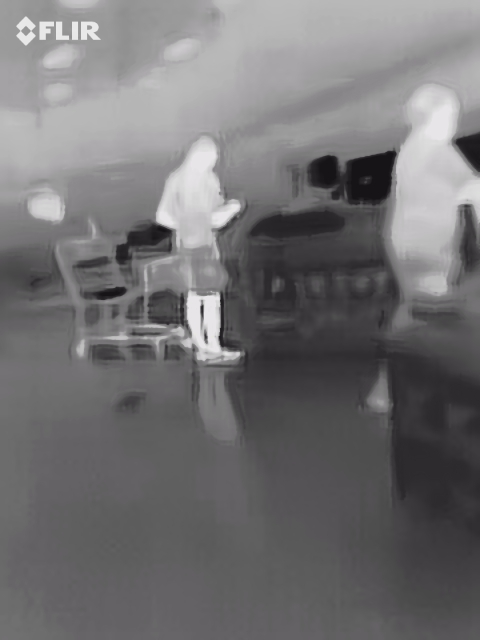head: (404, 84, 459, 142), (186, 137, 219, 172)
